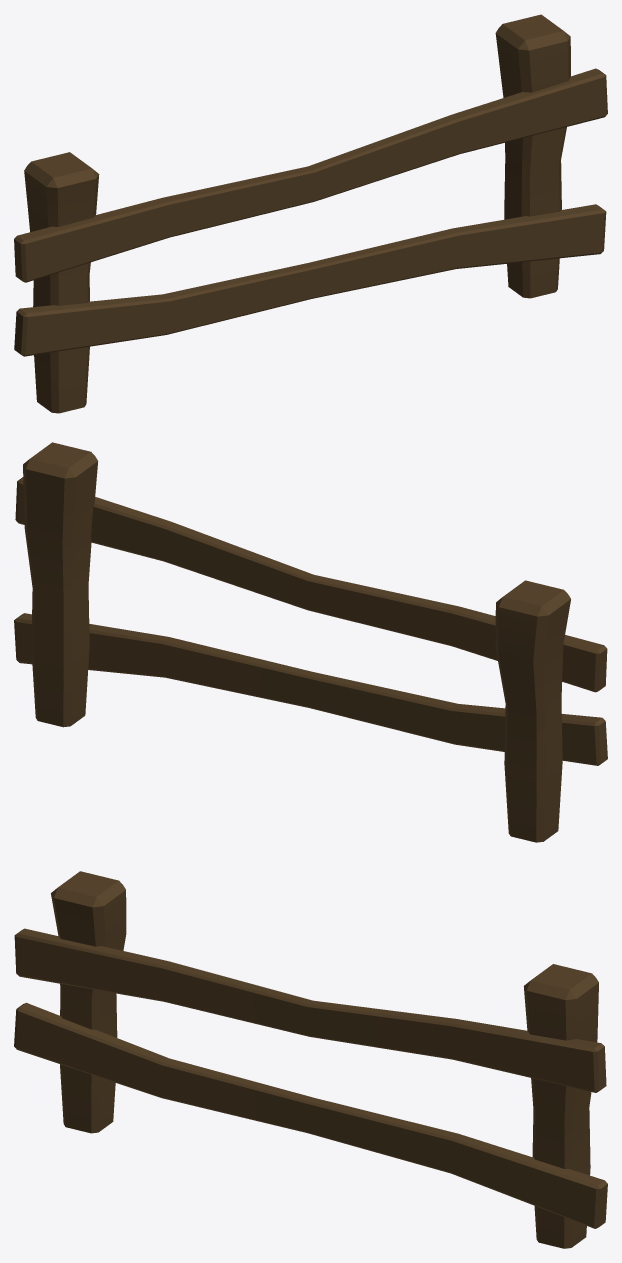
Rendered from LowPolyFence.fbx.
3 renders of one model, top to bottom at view 1: azimuth 30°, elevation 25°; view 2: azimuth 150°, elevation 25°; view 3: azimuth 330°, elevation 25°, orthographic.
Visible parts, largest first — view 1: Cube.001; view 2: Cube.001; view 3: Cube.001.
Part boxes in pixels (x1,y1,x2,y2): Cube.001: (14,14,607,413); Cube.001: (14,442,607,842); Cube.001: (14,871,607,1248).
Bounding box in the file's own units: 621 × 264 × 64.97.
